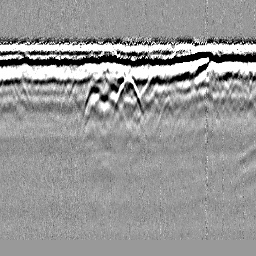cavity: (112, 75, 143, 115)
